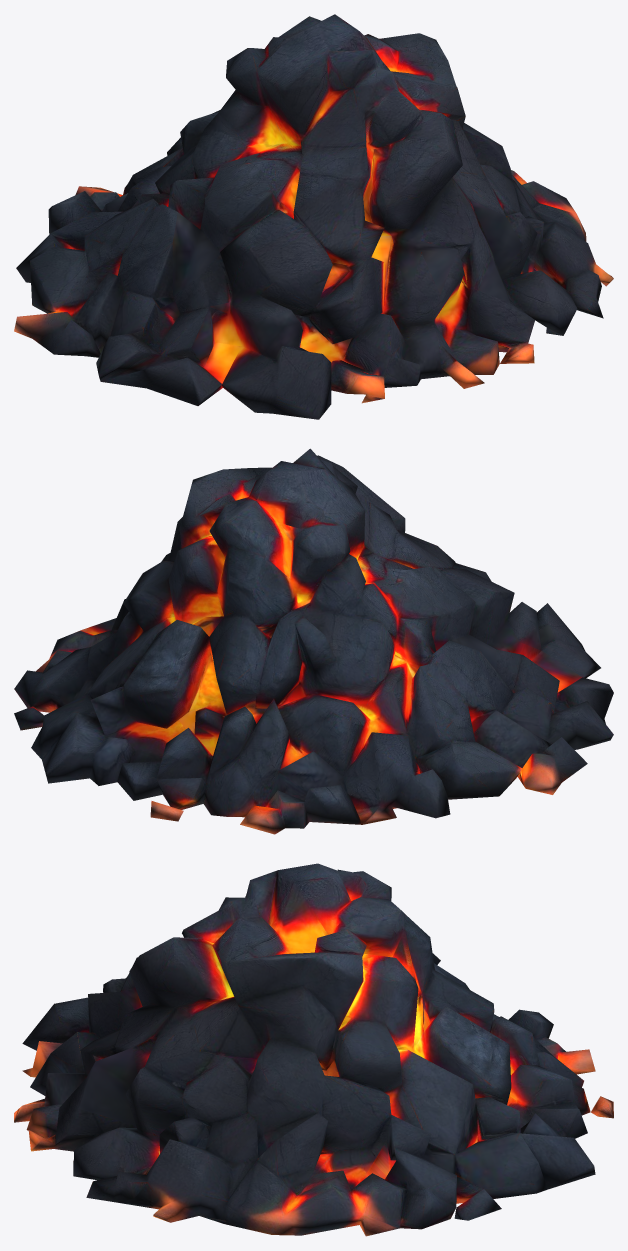
File: prop-den-slag.glb
3 views of the same model, one above another, from view 1: azimuth 30°, elevation 25°; view 2: azimuth 150°, elevation 25°; view 3: azimuth 270°, elevation 25° (orthographic). The views are drawn at different scales.
Size of the model in its own units: 2 by 0.9042 by 1.95.
1 material, 1 textured.
